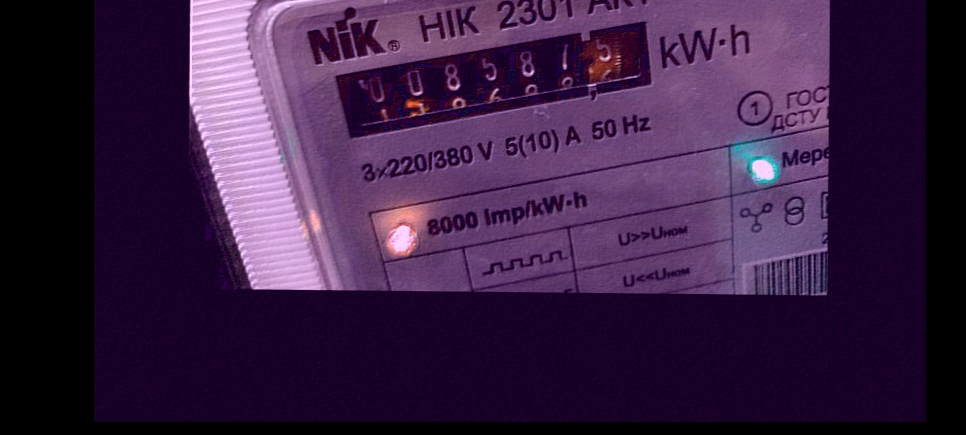0: (402, 65, 429, 99), (364, 73, 390, 105)
5: (478, 53, 502, 84), (593, 32, 615, 63)
6: (597, 67, 616, 84)
7: (553, 41, 576, 75)
8: (441, 61, 466, 94), (515, 47, 539, 80)
screen: (327, 18, 675, 144)
